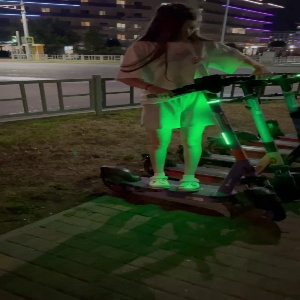human on a scooter: (98, 3, 293, 222)
